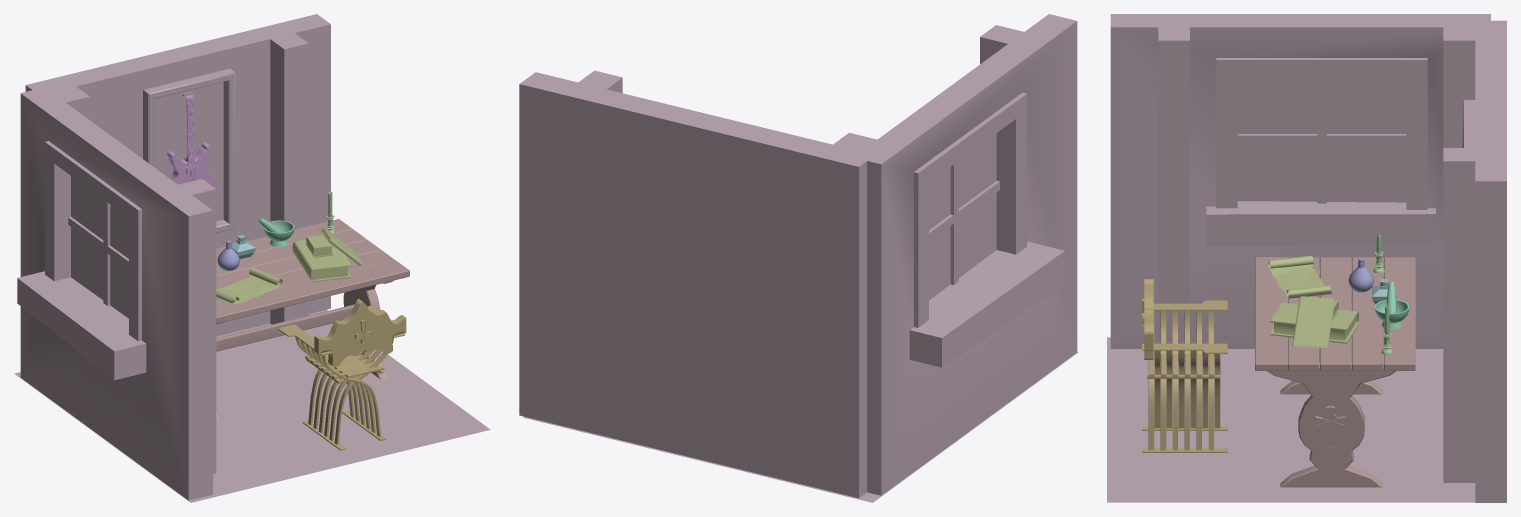
The model's file is Diorama sin textura.fbx.
The picture shows the model from 3 angles, left to right: view 1: azimuth 30°, elevation 25°; view 2: azimuth 150°, elevation 25°; view 3: azimuth 270°, elevation 25°; orthographic projection. The views are drawn at different scales.
Visible parts, largest first — view 1: Wall, Wall1, Floor, Beam3, Windowsill, Frame, Chair, Windowglass, Framework, TableTop4, ChairBackRest, CrossPiece (+13 smaller); view 2: Wall1, Wall, Windowsill, Frame, Windowglass, Divider, Floor, Beam1, Beam3; view 3: Wall, Floor, Windowglass, Wall1, Beam3, Frame, Windowsill, Beam1, Chair, TableLeg2, Beam, Divider (+14 smaller).
Part boxes in pixels (box(x1,y1,x2,y2)): Wall: box(20, 87, 212, 500); Wall1: box(25, 14, 330, 336); Floor: box(14, 309, 490, 502); Beam3: box(270, 33, 308, 324); Windowsill: box(17, 271, 146, 380); Frame: box(45, 141, 141, 341); Chair: box(278, 305, 404, 450); Windowglass: box(71, 176, 128, 318); Framework: box(143, 68, 234, 232); TableTop4: box(216, 260, 409, 323); ChairBackRest: box(314, 298, 406, 366); CrossPiece: box(216, 304, 354, 351); Wall1: box(519, 72, 866, 498); Wall: box(853, 14, 1077, 495); Windowsill: box(909, 241, 1064, 367); Frame: box(914, 93, 1026, 327); Windowglass: box(929, 133, 996, 300); Divider: box(929, 161, 999, 284); Floor: box(523, 352, 1077, 502); Beam1: box(980, 25, 1023, 63); Beam3: box(578, 70, 622, 93); Wall: box(1110, 14, 1490, 348); Floor: box(1107, 337, 1475, 502); Windowglass: box(1237, 76, 1406, 202); Wall1: box(1475, 20, 1506, 502); Beam3: box(1443, 148, 1475, 482); Frame: box(1216, 58, 1427, 209); Windowsill: box(1206, 201, 1435, 246); Beam1: box(1158, 27, 1189, 362); Chair: box(1142, 300, 1227, 452); TableLeg2: box(1267, 362, 1395, 487); Beam: box(1443, 27, 1475, 147); Divider: box(1237, 76, 1406, 203).
Size of the model in its own units: 27.63 by 22.48 by 25.22.
